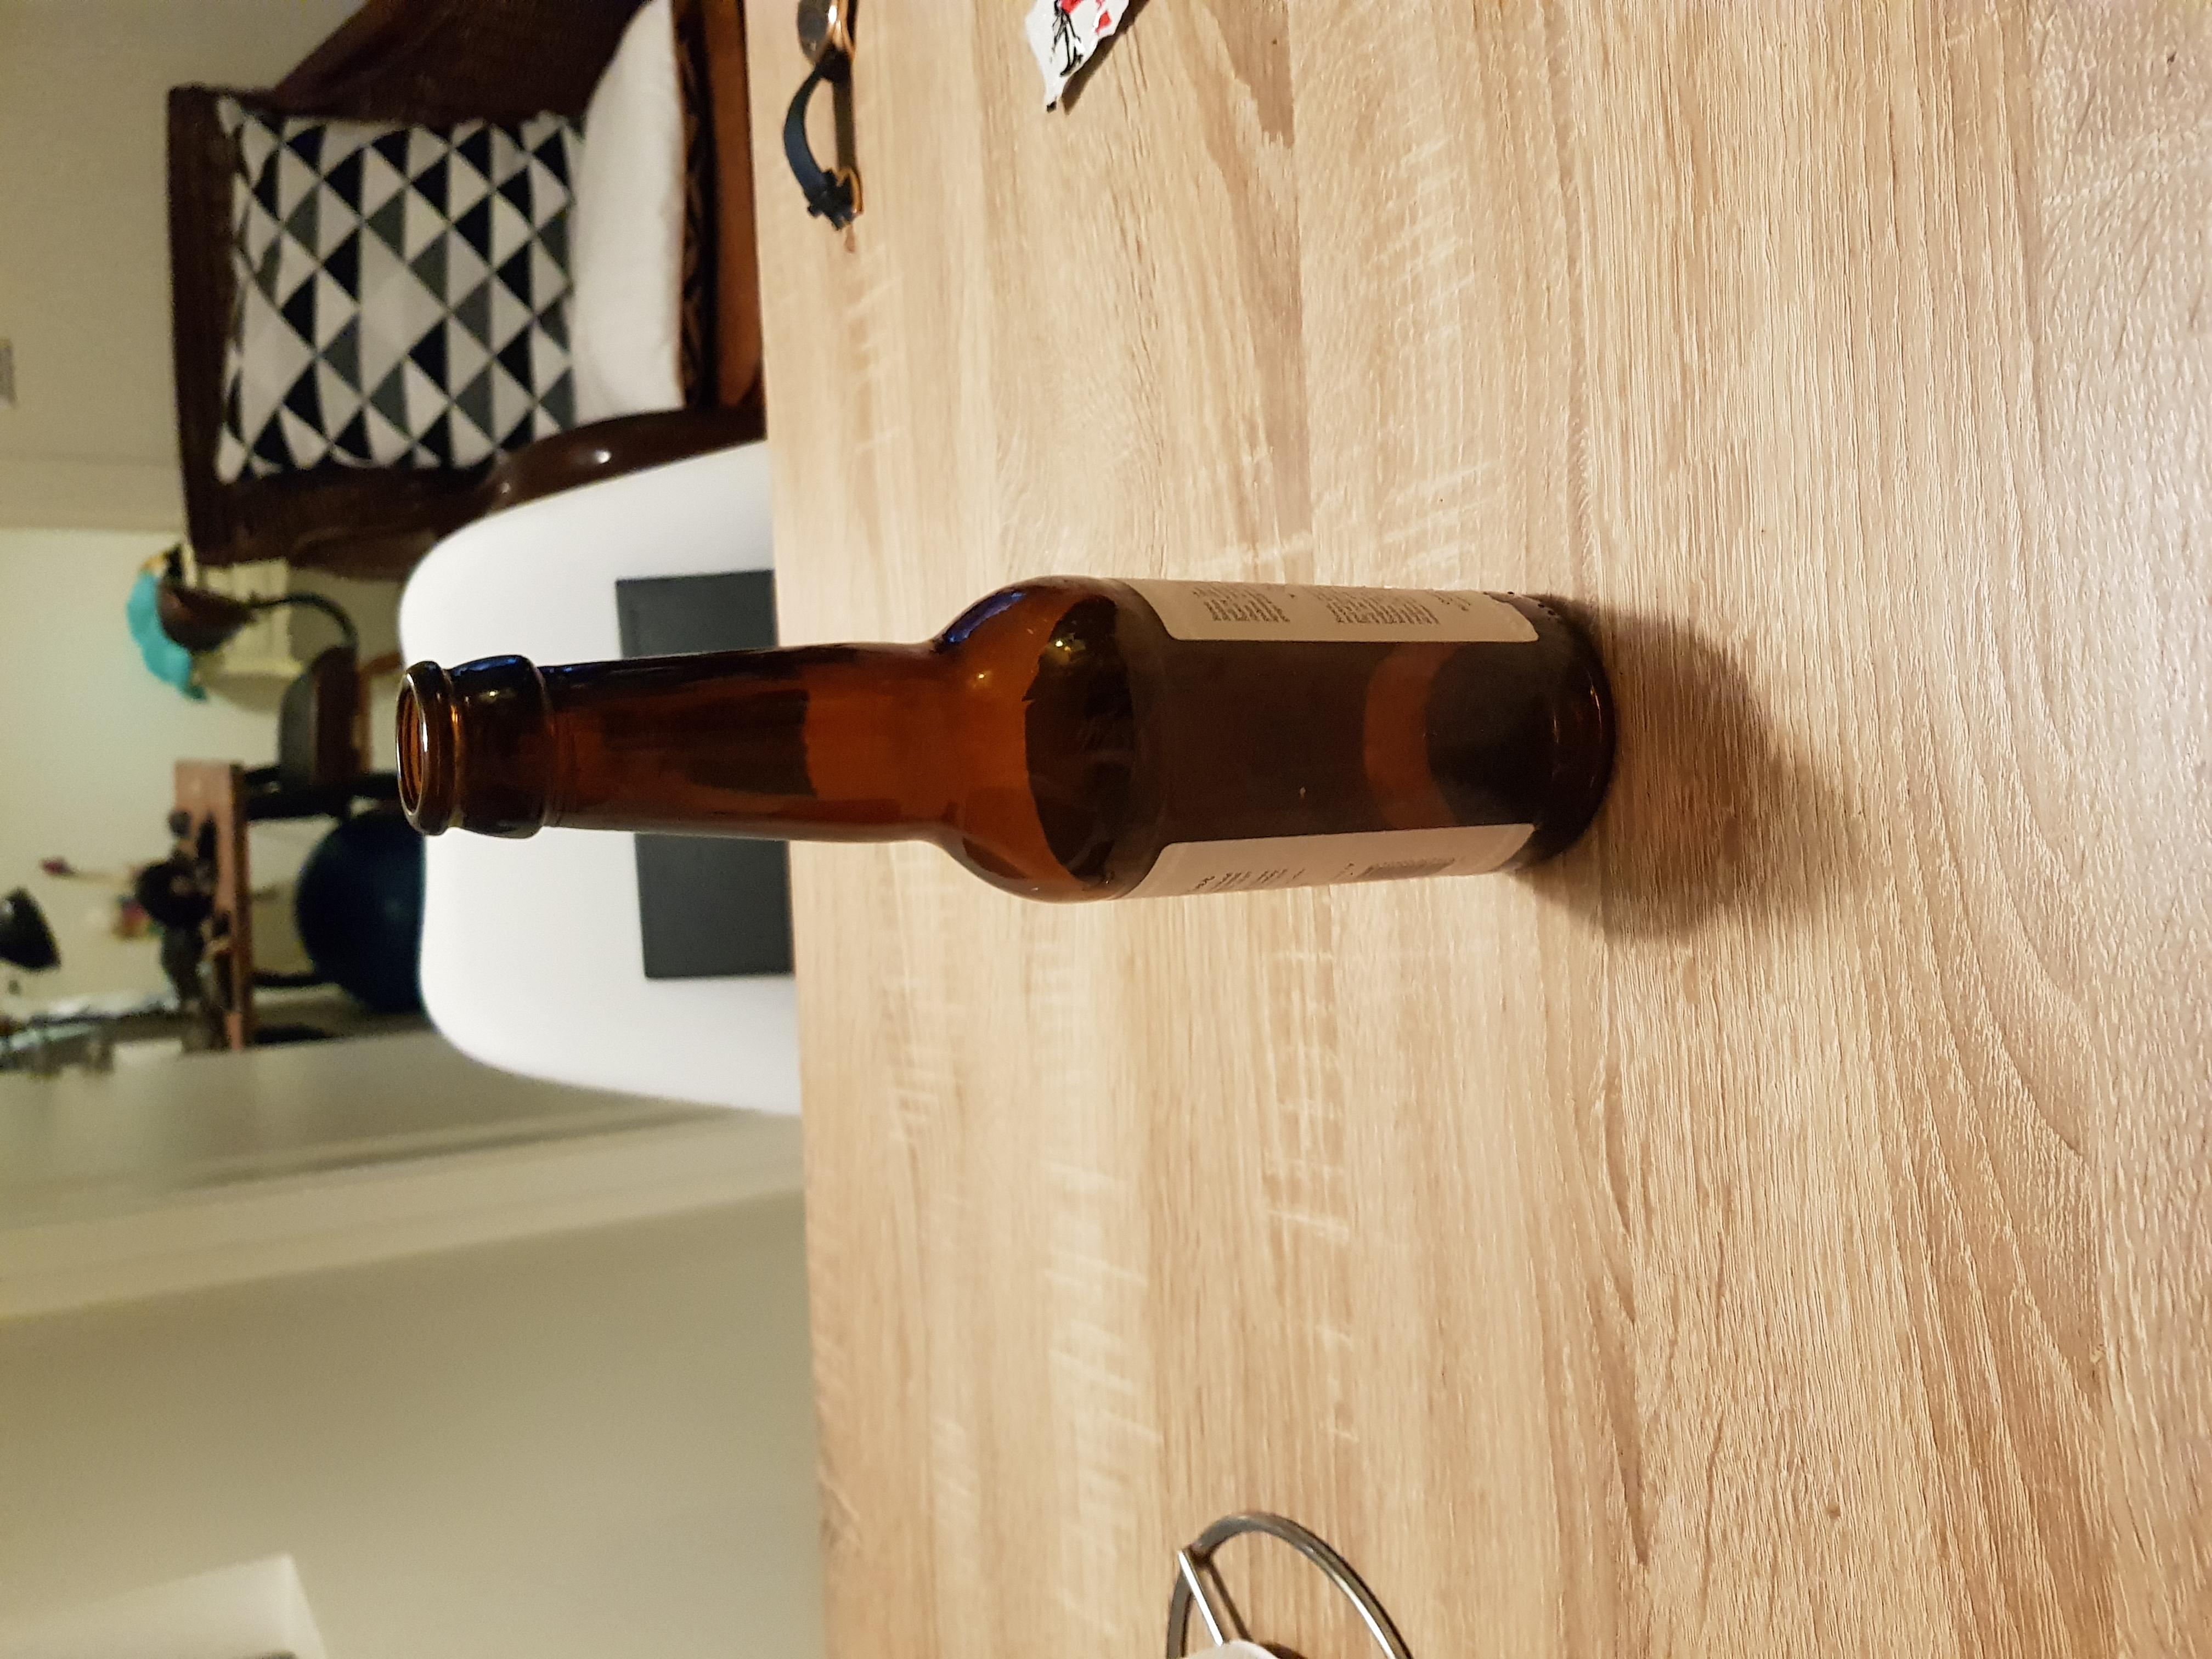bottle: (385, 556, 1646, 899)
